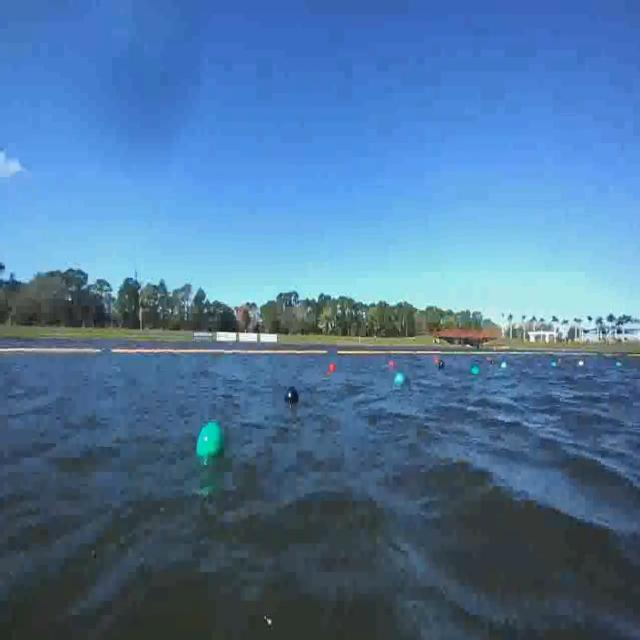black-buoy: (285, 387, 298, 405)
green-buoy: (198, 423, 227, 463), (394, 372, 406, 388), (470, 364, 479, 374)
red-buoy: (329, 362, 336, 372)
